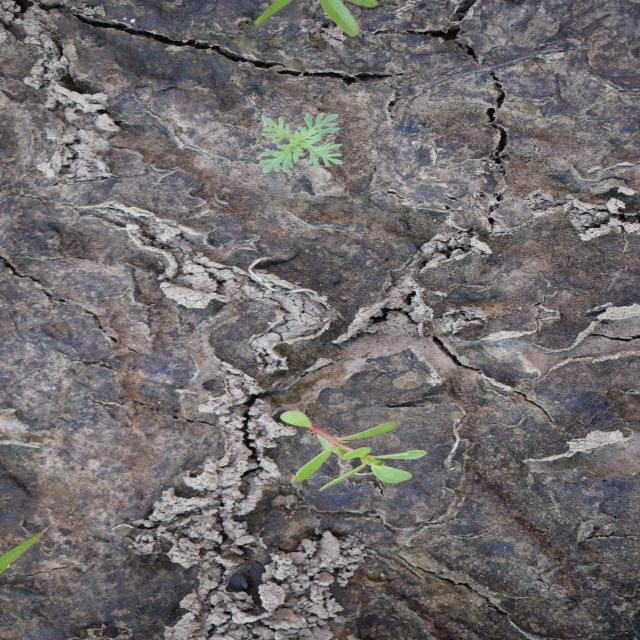Purslane: (277, 409, 429, 494)
Ragweed: (255, 111, 348, 176)
Waterhemp: (247, 1, 382, 39)
